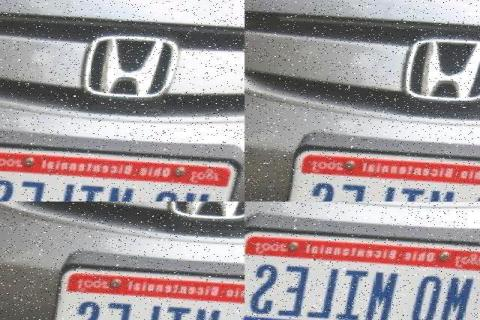LicensePlate: (244, 255, 479, 320), (154, 83, 244, 135)
